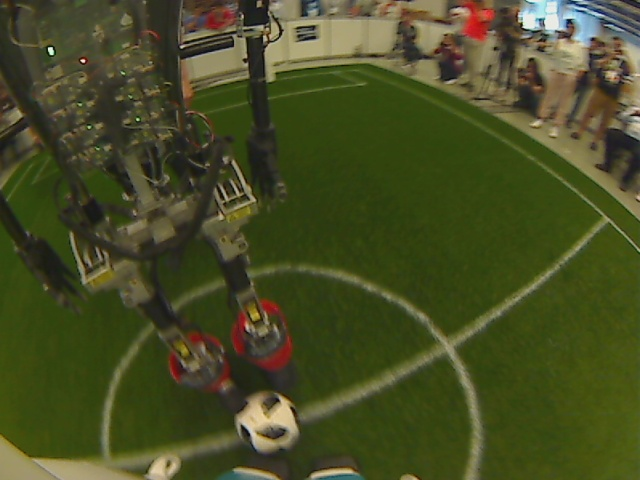ball: (234, 391, 303, 456)
